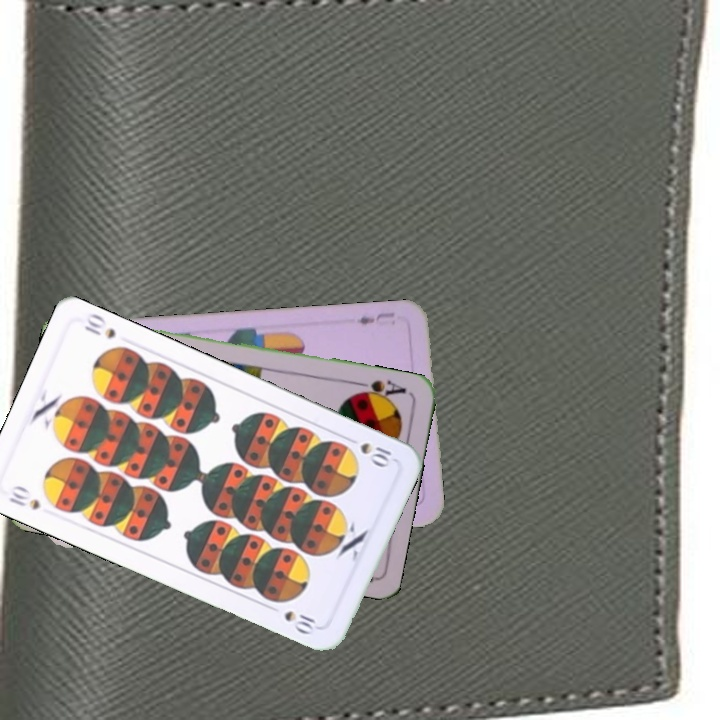EU: (353, 308, 398, 327)
S10: (341, 432, 394, 470), (5, 481, 43, 513)
SA: (350, 375, 409, 403)
